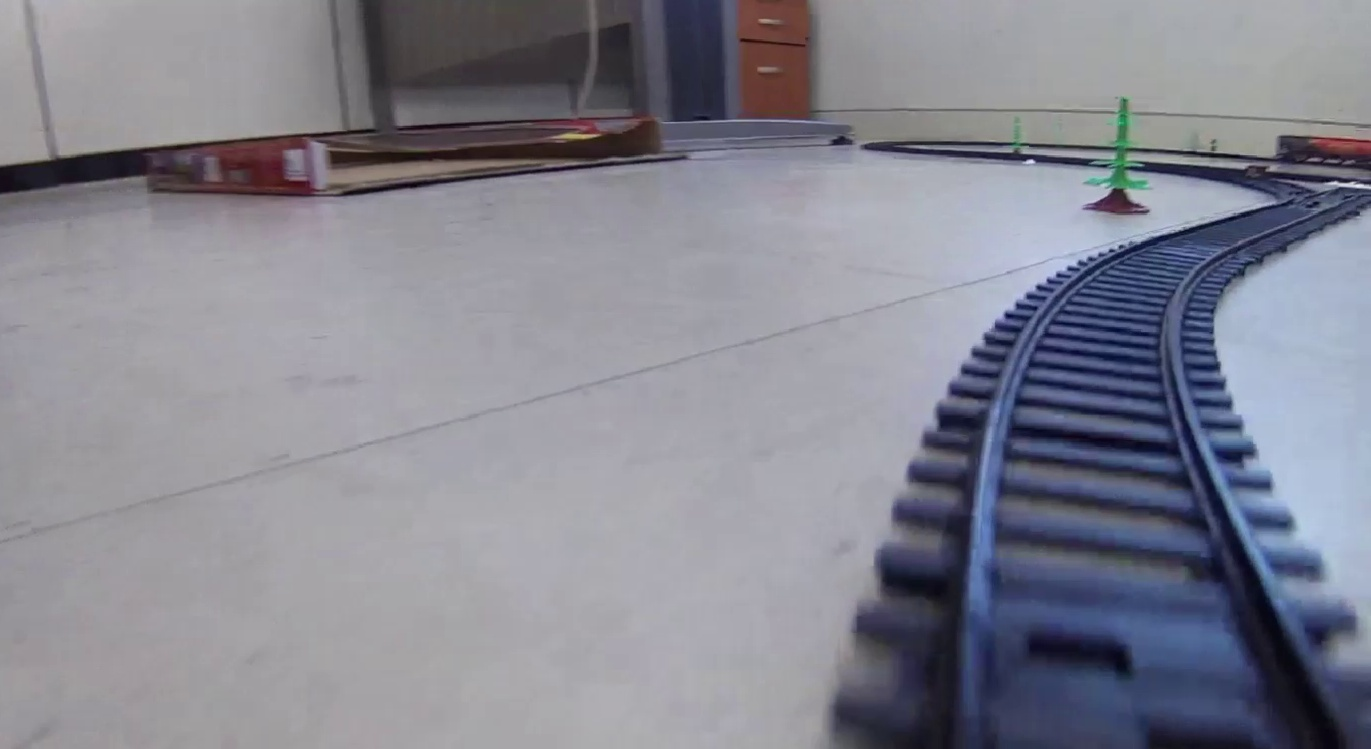tree: (1080, 94, 1157, 217)
